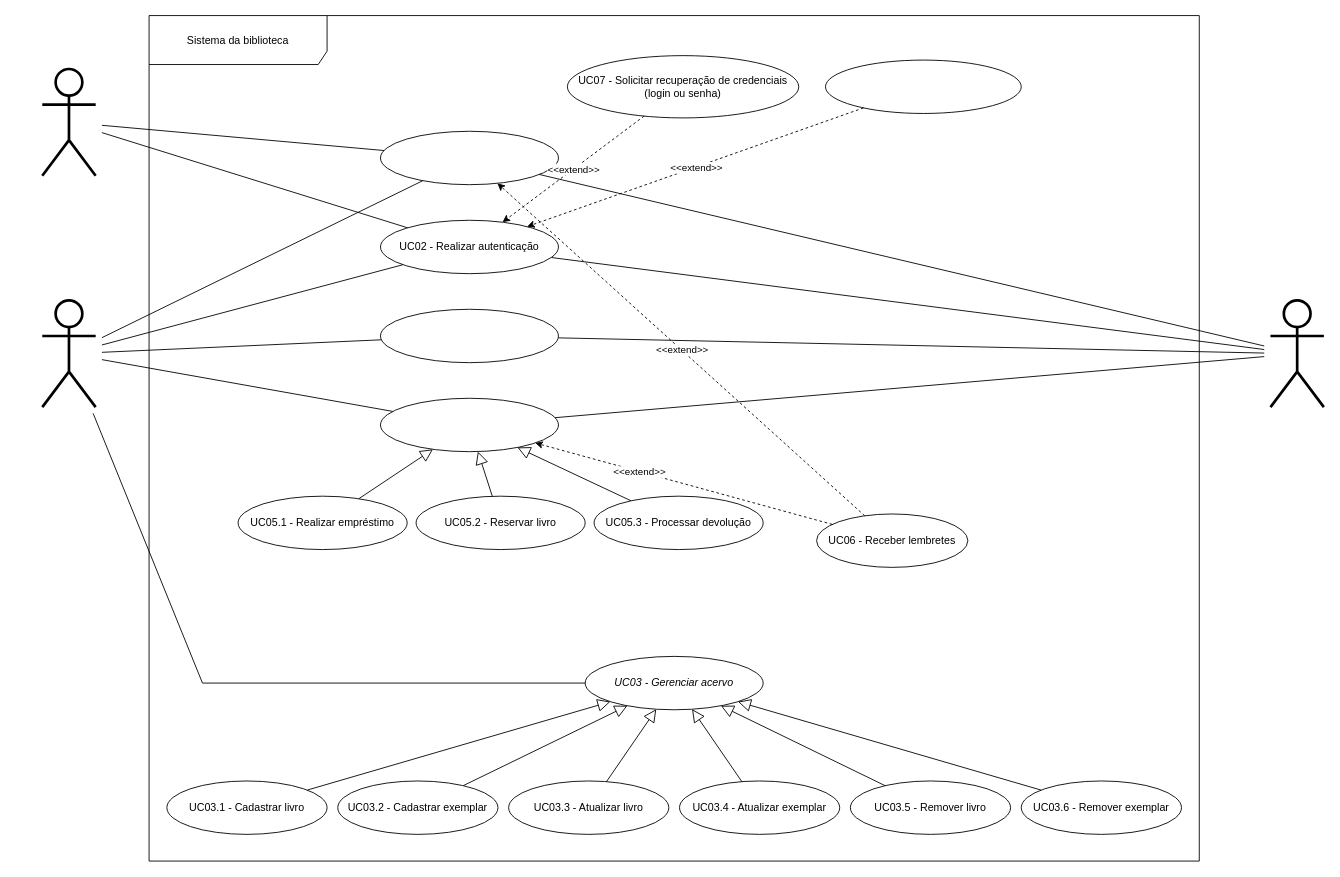
Some shapes in this 1340 by 877 pixel diagram are drawn without their labels. The centre of each missing label's shape, as x and y in pixels:
"ADMINISTRADOR" goes at (68,353).
"ADMINISTRADOR DE CREDENCIAIS" goes at (68,122).
"MEMBRO" goes at (1297,353).
"UC01 - Criar credenciais válidas" goes at (469,157).
"UC04 - Consultar acervo" goes at (469,335).
"UC05 - Movimentar acervo" goes at (469,424).
"UC08 - Recuperar a conta bloqueada" goes at (923,86).
